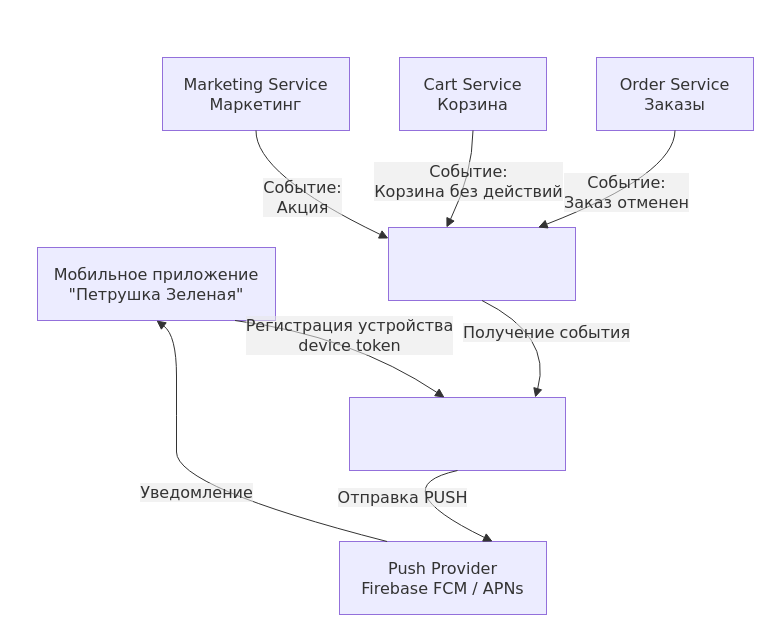
Image size: 771x632. Some labels were removed from this diagram. The box of each missing label's shape, as (x1, y1, x2, y2) in pixels:
Event Bus Kafka / RabbitMQ: (388, 226, 576, 300)
Notification Service Сервис уведомлений: (348, 396, 566, 470)
